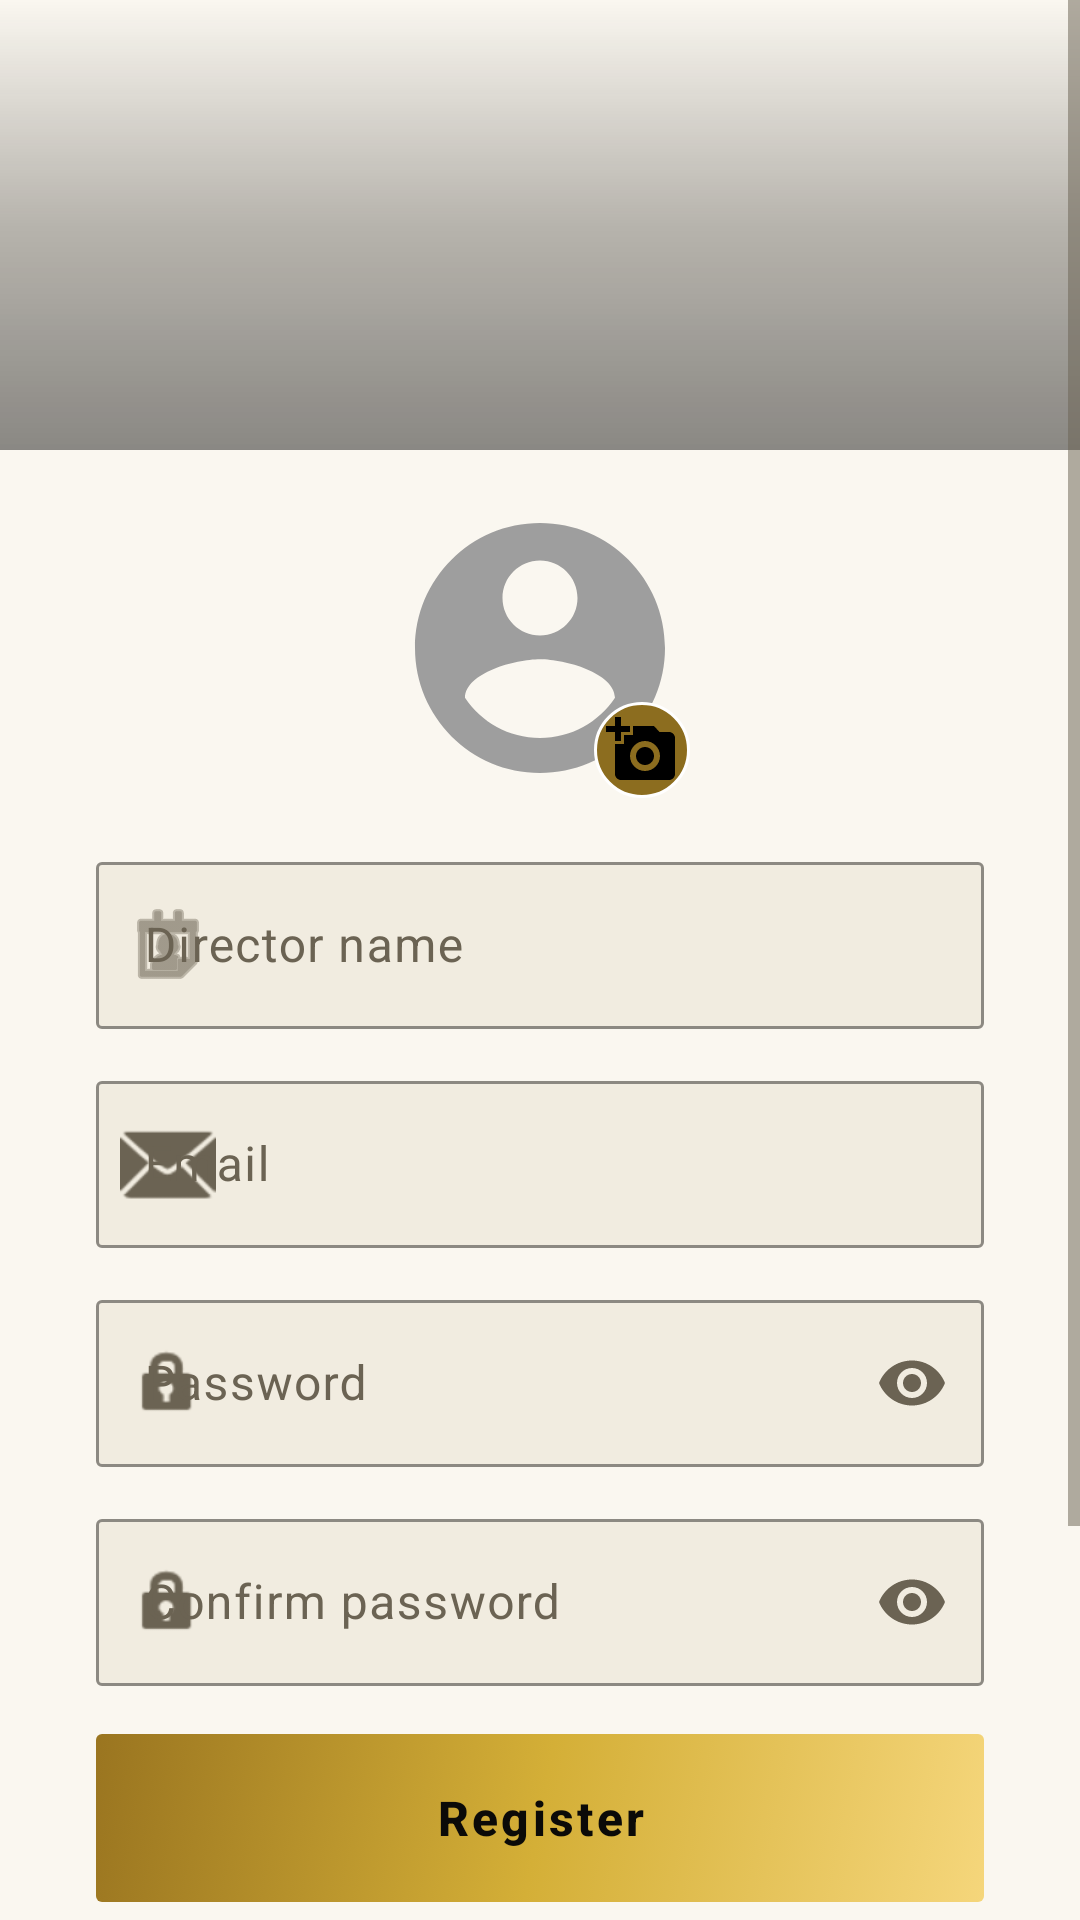

Icon bounding boxes for this 1080 x 1920 phone screenshot, format (x1, y1, x2, y2):
Add profile photo: (597, 705, 687, 795)
